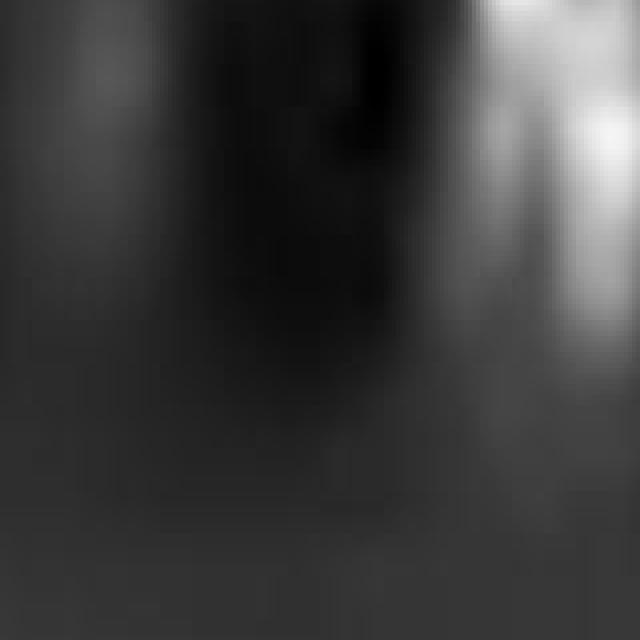person: (457, 1, 640, 401)
